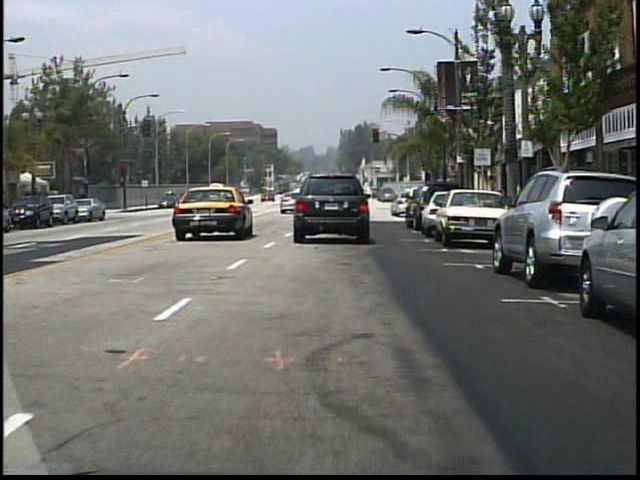person: (347, 188, 362, 213), (192, 188, 206, 213)
